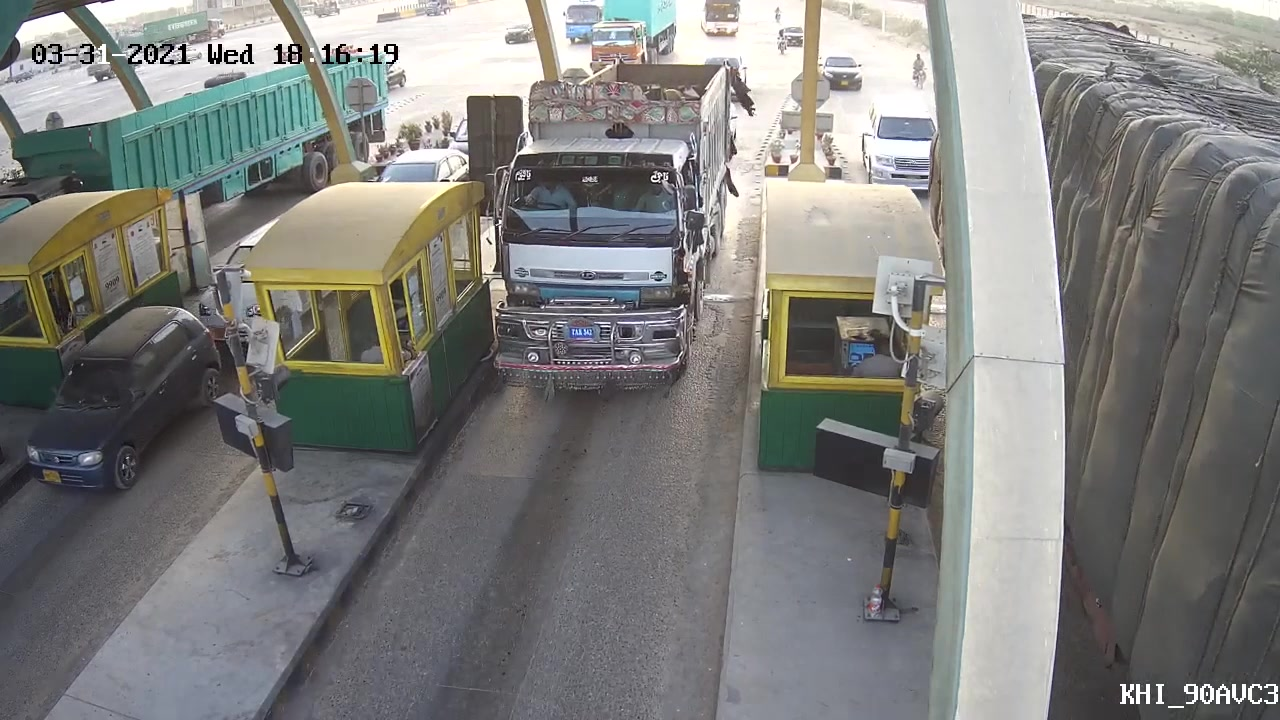F5: (476, 64, 741, 405)
